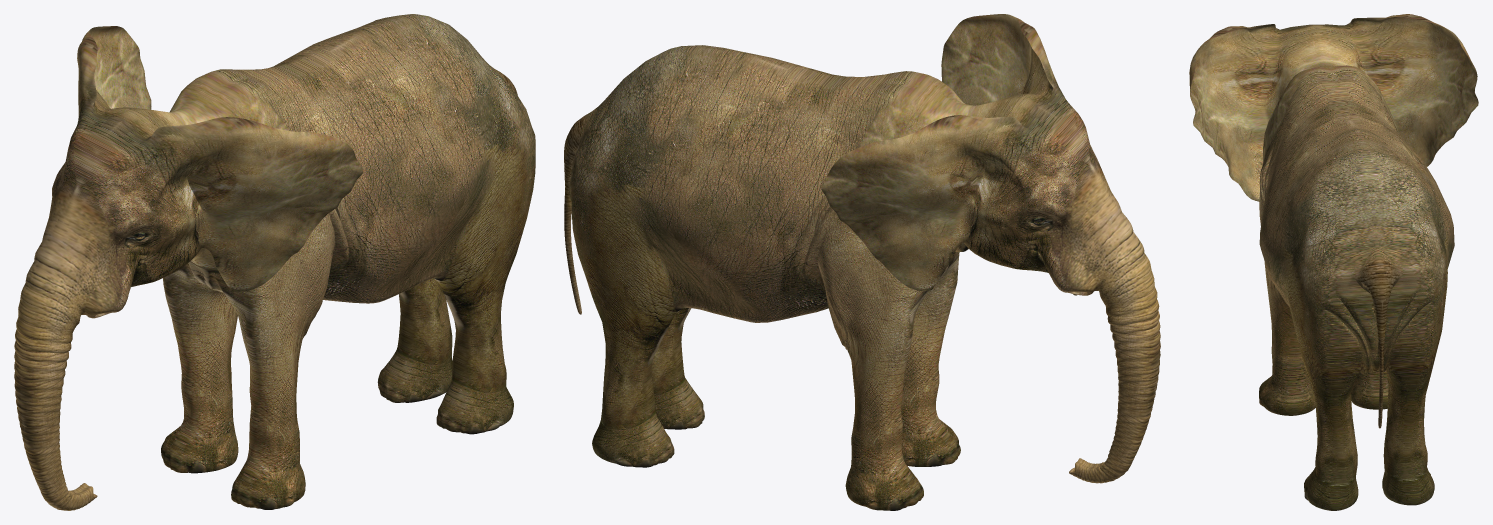
The model's file is bebe_elephant.fbx.
The picture shows the model from 3 angles, left to right: view 1: azimuth 30°, elevation 25°; view 2: azimuth 150°, elevation 25°; view 3: azimuth 270°, elevation 25°; orthographic projection. The views are drawn at different scales.
Visible parts, largest first — view 1: MainEleM.001; view 2: MainEleM.001; view 3: MainEleM.001.
Part boxes in pixels (x1,y1,x2,y2): MainEleM.001: (14,14,535,510); MainEleM.001: (564,14,1160,510); MainEleM.001: (1189,14,1478,510).
Size of the model in its own units: 429 by 313 by 237.
1 material, 1 textured.
